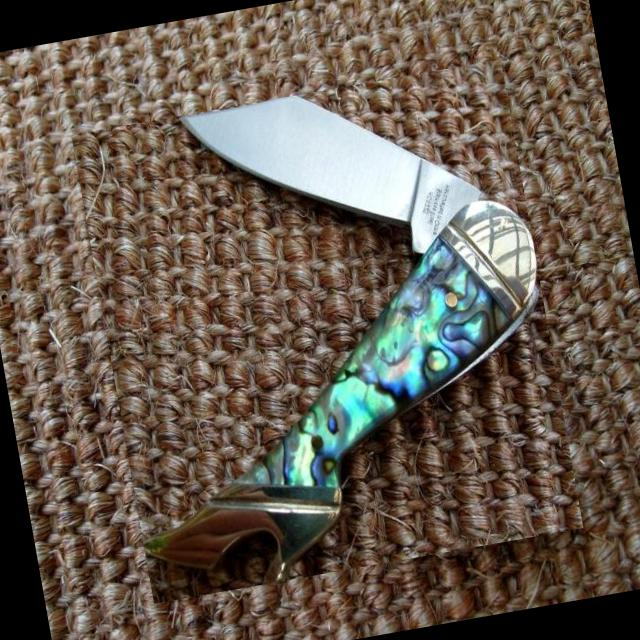Knife: (144, 96, 538, 582)
